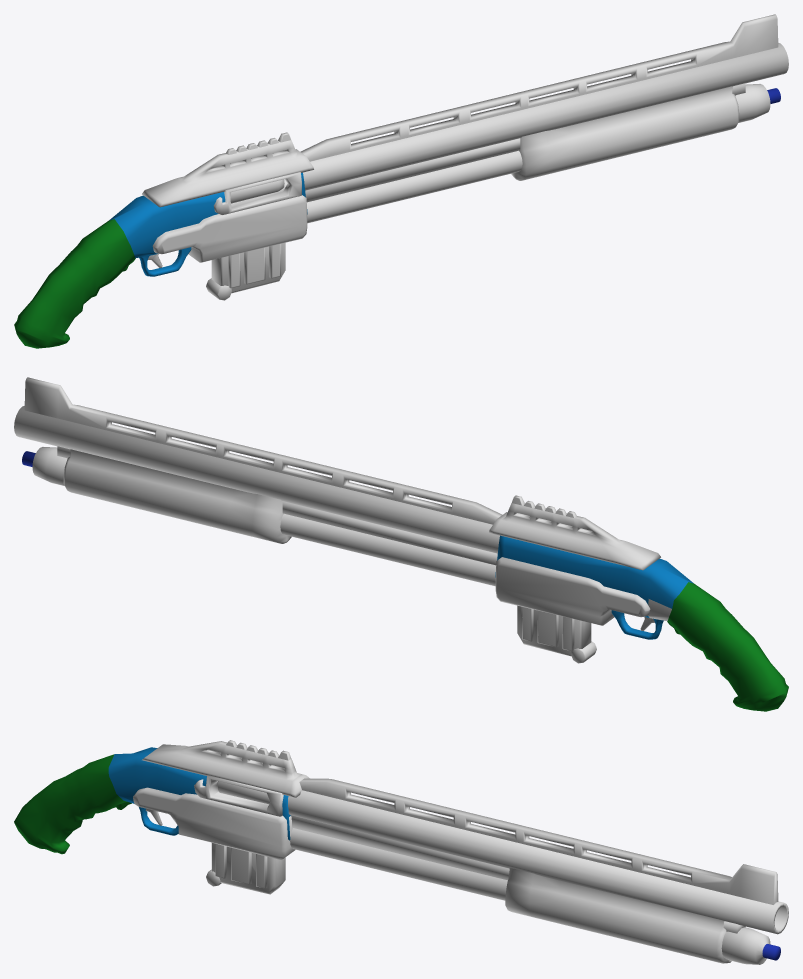
The model's file is Shotgun.fbx.
3 views of the same model, one above another, from view 1: azimuth 30°, elevation 25°; view 2: azimuth 150°, elevation 25°; view 3: azimuth 330°, elevation 25° (orthographic).
Parts seen in each view (by area): view 1: stvol_low, korob_low, dergalka_low, planka_low, Plane_low, muwka_low, mag_low, dosul_low, ammo_low; view 2: stvol_low, korob_low, dergalka_low, planka_low, Plane_low, muwka_low, mag_low; view 3: stvol_low, dergalka_low, planka_low, korob_low, Plane_low, muwka_low, mag_low, dosul_low, ammo_low.
Boxes of the visible parts, <box> form: stvol_low: <box>303,43,788,223</box>; korob_low: <box>14,172,307,348</box>; dergalka_low: <box>511,86,739,180</box>; planka_low: <box>300,14,778,161</box>; Plane_low: <box>152,195,307,262</box>; muwka_low: <box>142,132,313,207</box>; mag_low: <box>206,242,285,300</box>; dosul_low: <box>213,172,301,214</box>; ammo_low: <box>230,179,284,203</box>; stvol_low: <box>14,406,499,586</box>; korob_low: <box>495,535,788,711</box>; dergalka_low: <box>63,449,291,543</box>; planka_low: <box>24,377,502,524</box>; Plane_low: <box>495,557,650,625</box>; muwka_low: <box>489,495,660,570</box>; mag_low: <box>517,605,596,663</box>; stvol_low: <box>288,790,788,964</box>; dergalka_low: <box>505,868,731,963</box>; planka_low: <box>299,778,778,904</box>; korob_low: <box>14,747,290,854</box>; Plane_low: <box>133,787,295,859</box>; muwka_low: <box>142,740,309,797</box>; mag_low: <box>206,843,285,894</box>; dosul_low: <box>194,775,283,816</box>; ammo_low: <box>217,781,270,804</box>.
Bounding box in the file's own units: 490 × 96.07 × 27.62.
